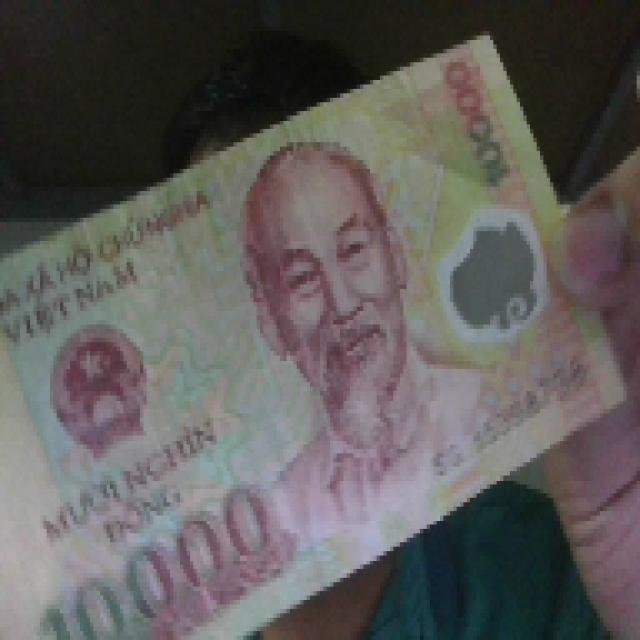10 000 VND: (0, 27, 630, 636)
